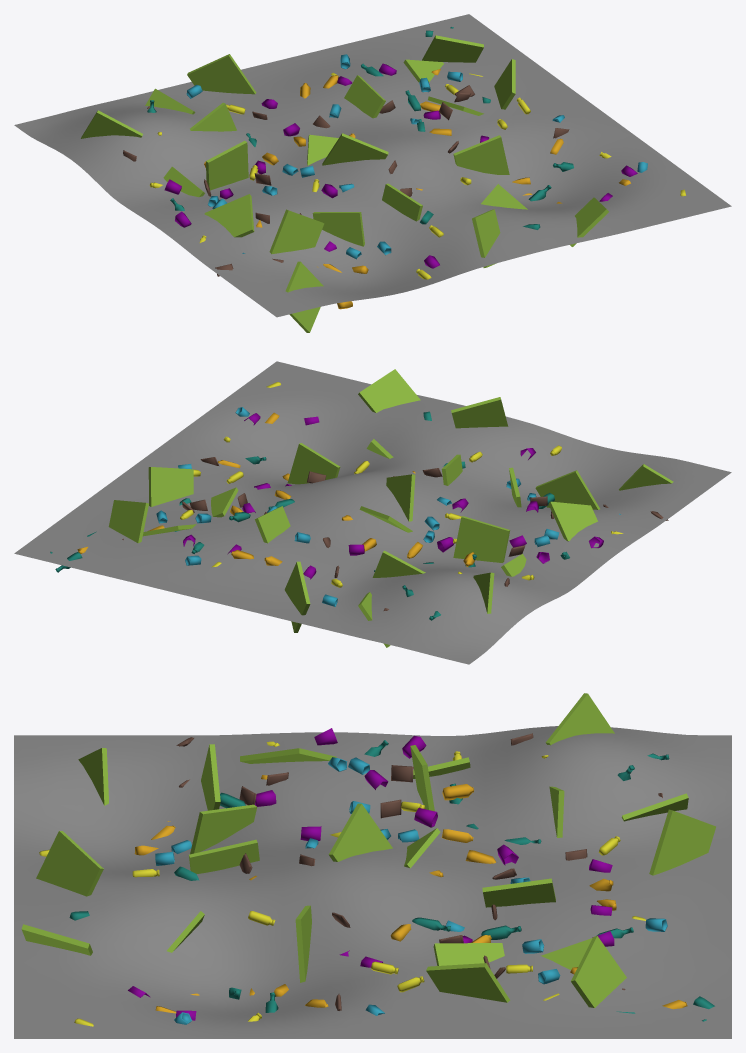
Rendered from Garbage_Pile.fbx.
3 renders of one model, top to bottom at view 1: azimuth 30°, elevation 25°; view 2: azimuth 150°, elevation 25°; view 3: azimuth 270°, elevation 25°, orthographic. The views are drawn at different scales.
Visible parts, largest first — view 1: LargeGarbage_LOD0; view 2: LargeGarbage_LOD0; view 3: LargeGarbage_LOD0.
Boxes of the visible parts, <box> form: LargeGarbage_LOD0: <box>14,14,731,332</box>; LargeGarbage_LOD0: <box>14,361,731,664</box>; LargeGarbage_LOD0: <box>14,693,731,1038</box>.
Size of the model in its own units: 1200 by 230 by 1200.
